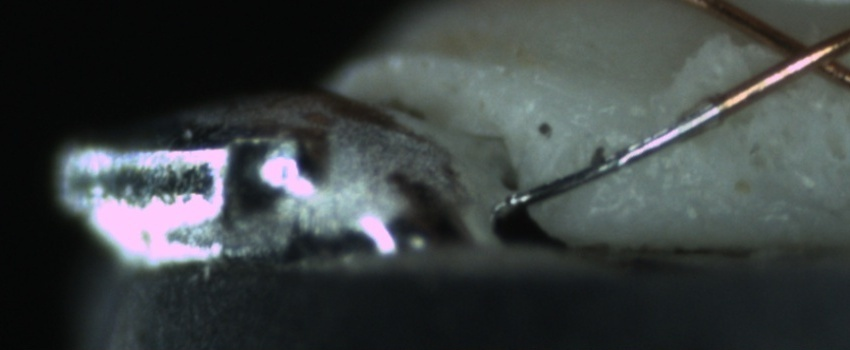CL: (753, 20, 848, 89)
TS: (510, 98, 719, 209)
